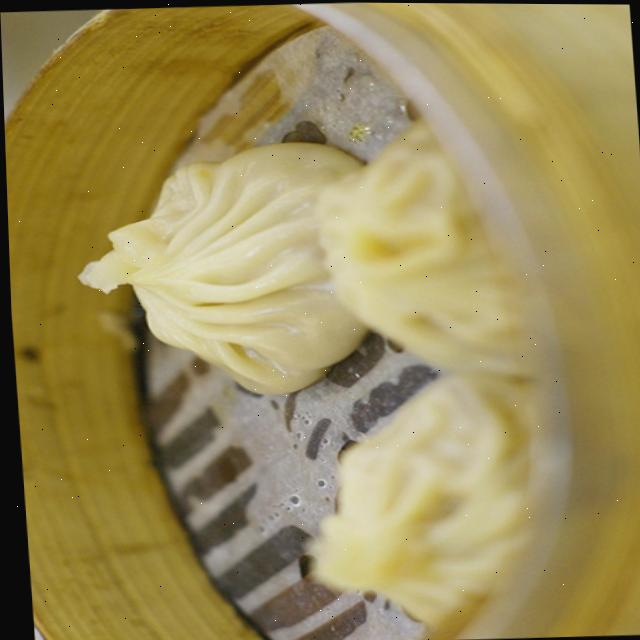带馅早点: (11, 22, 580, 619)
